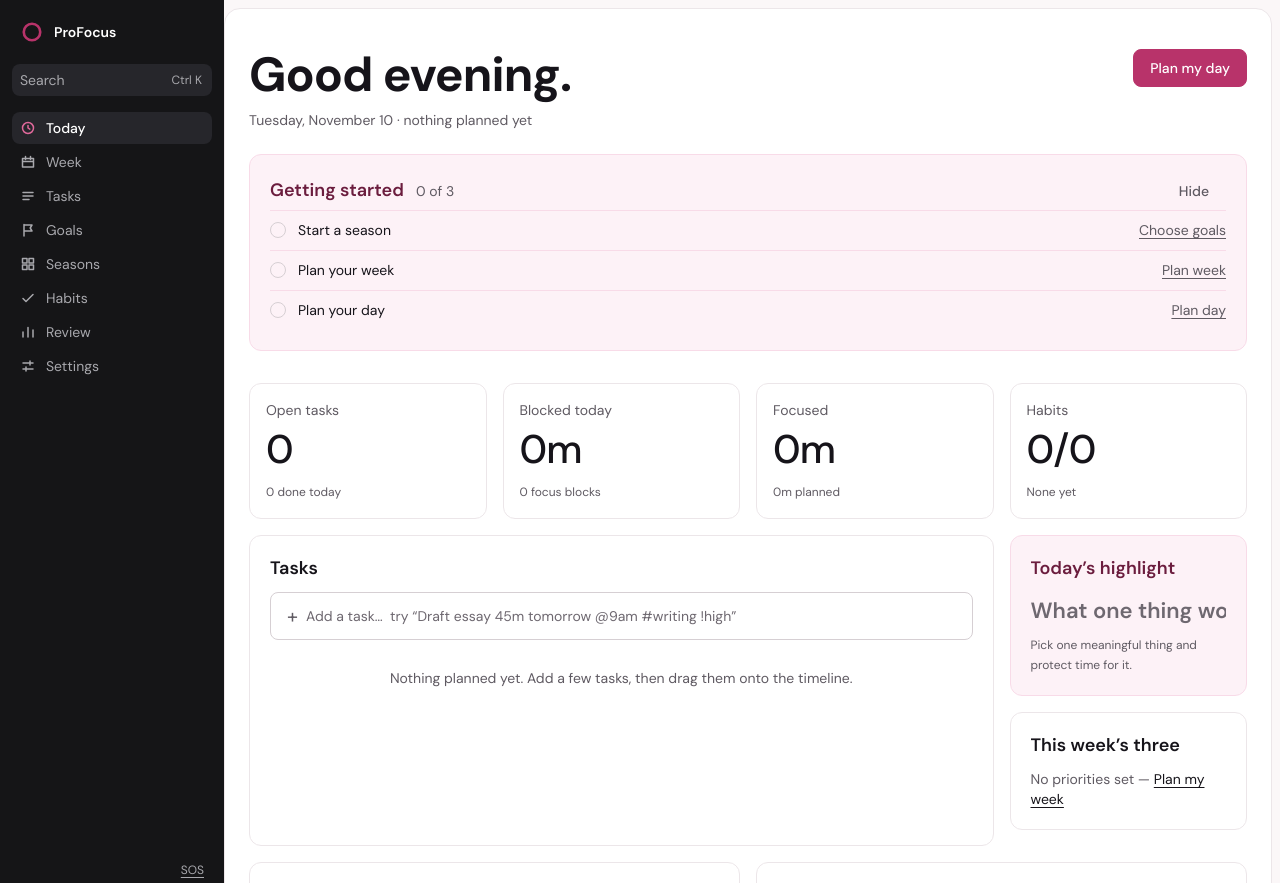
it: App › quick-adds a task to today and renders its time block
This screenshot has width=1280, height=883.
Replace the text in the field named "Quick add task" with "Write intro 45m @9am #writing !high" at x=633, y=616, box 306,597 -> 960,635
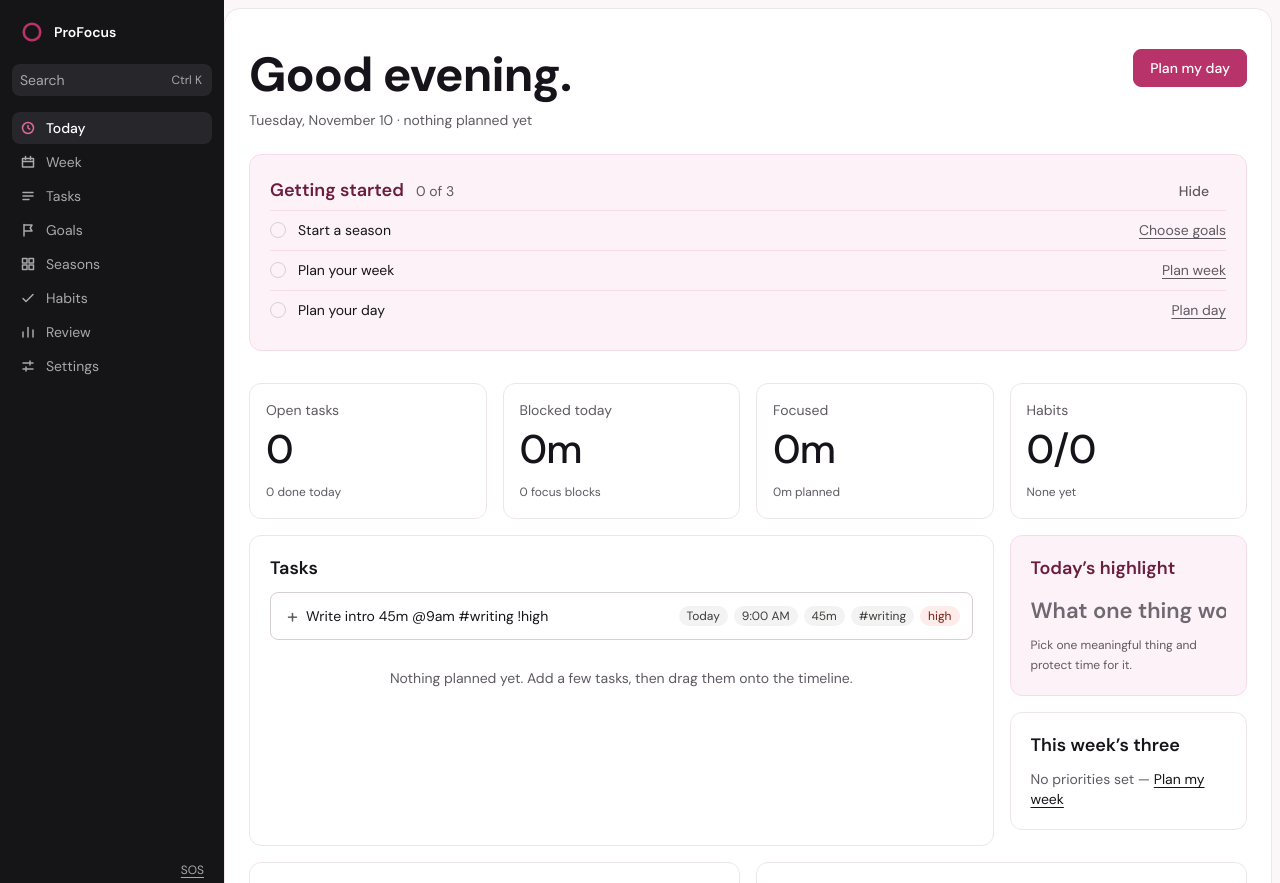
Submit the form named "Quick add task", box 270,592 -> 972,640
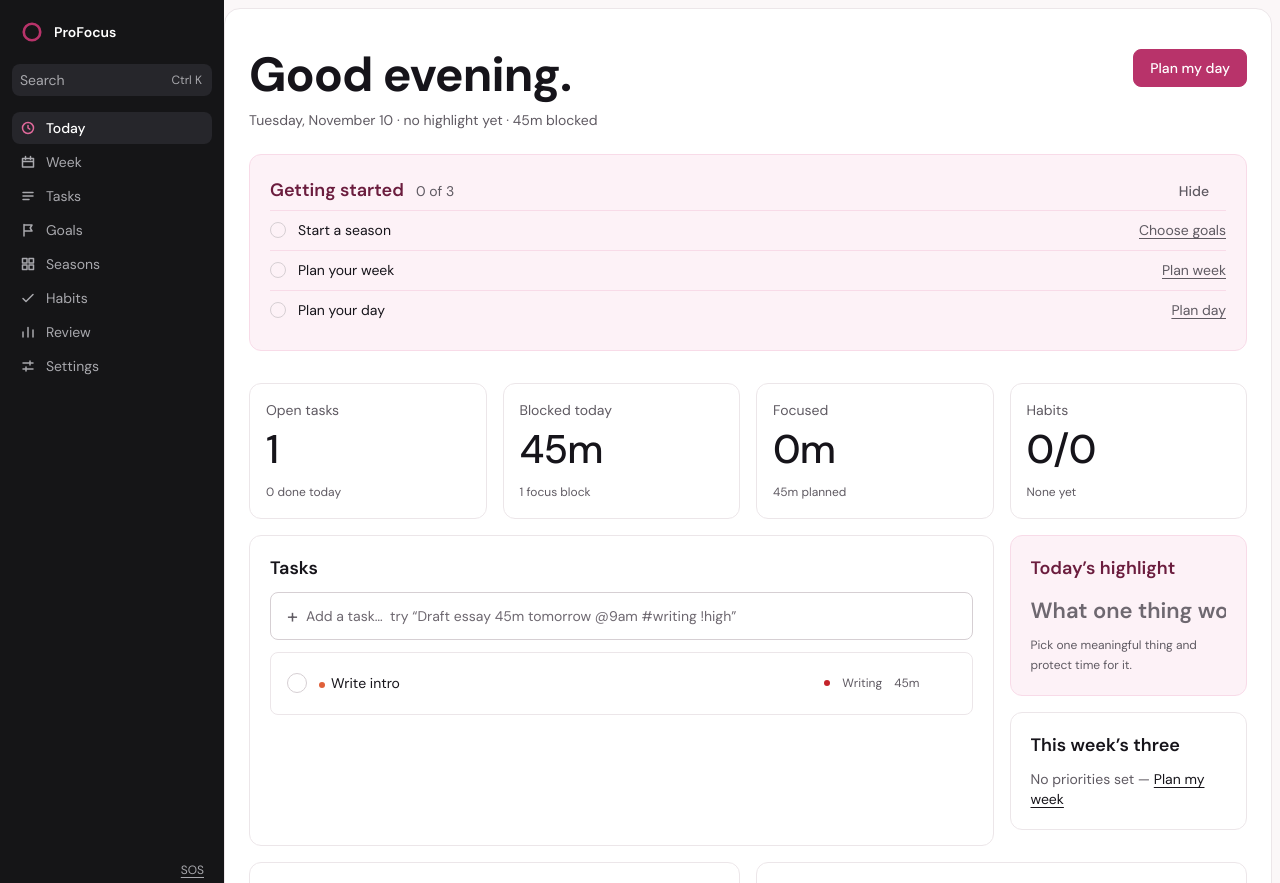
Expected: the text "Writing" is shown, 842,673 -> 882,693
Expected: the button "Write intro" is shown, 319,673 -> 812,693
